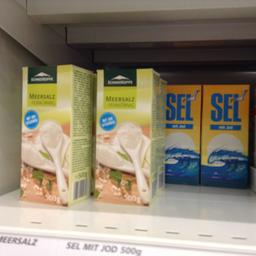spices: (18, 62, 92, 206), (92, 66, 158, 207), (199, 84, 250, 188)
